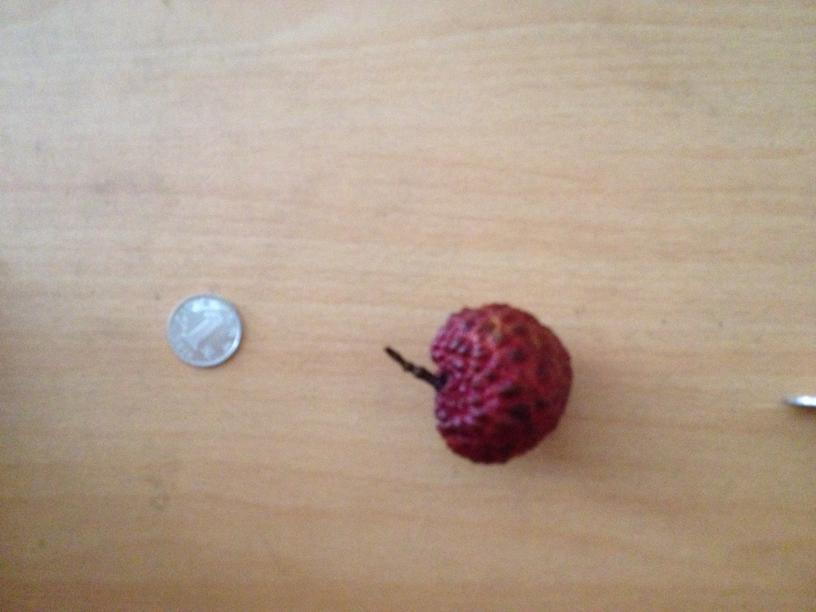coin: (167, 297, 243, 366)
litchi: (426, 299, 573, 463)
